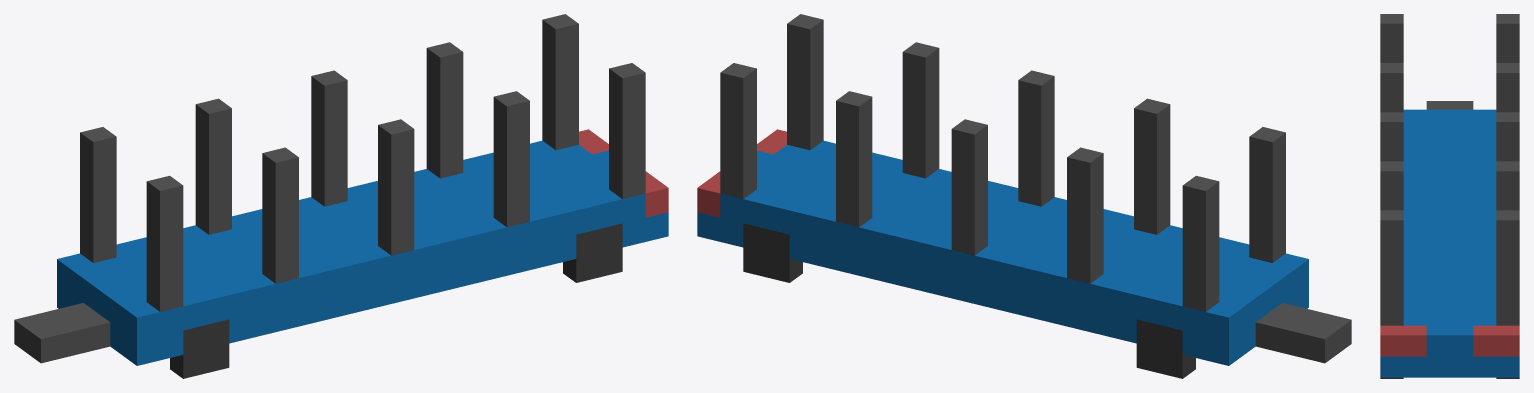
File: truck-trailer-v4-blue.gltf
The picture shows the model from 3 angles, left to right: view 1: azimuth 30°, elevation 25°; view 2: azimuth 150°, elevation 25°; view 3: azimuth 270°, elevation 25°; orthographic projection. The views are drawn at different scales.
Parts seen in each view (by area): view 1: model, wheels; view 2: model, wheels; view 3: model.
Part boxes in pixels (x1=…): model: x1=14, y1=14, x2=668, y2=365; wheels: x1=170, y1=223, x2=622, y2=378; model: x1=697, y1=14, x2=1351, y2=365; wheels: x1=743, y1=223, x2=1195, y2=378; model: x1=1380, y1=14, x2=1519, y2=377.
Bounding box in the file's own units: 2.6 × 0.8 × 0.6.
2 materials, 2 textured.
